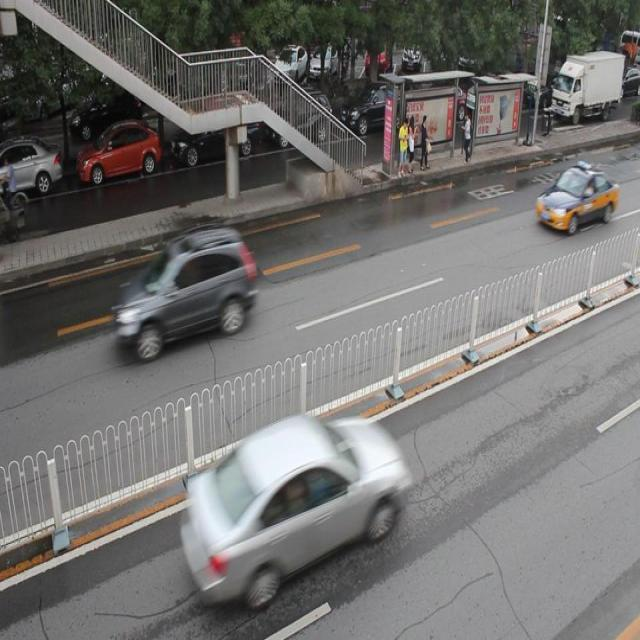bus: (547, 49, 623, 122)
car: (180, 412, 408, 604), (116, 227, 255, 357), (536, 162, 618, 234), (77, 122, 162, 186), (171, 108, 259, 166), (267, 88, 333, 150), (340, 80, 409, 138), (0, 138, 62, 201)
